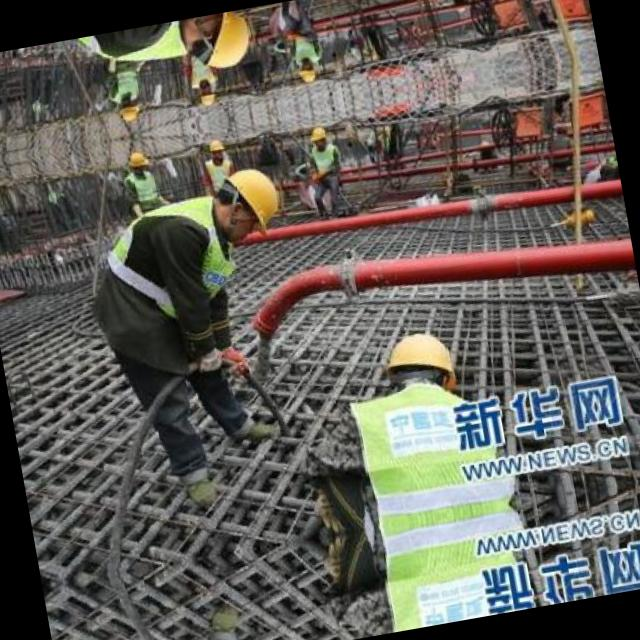helmet: (372, 318, 464, 406), (204, 157, 290, 246), (178, 7, 263, 81), (121, 144, 152, 178), (113, 95, 144, 128), (306, 120, 334, 156), (294, 54, 322, 88), (203, 136, 227, 162), (193, 82, 217, 108)
